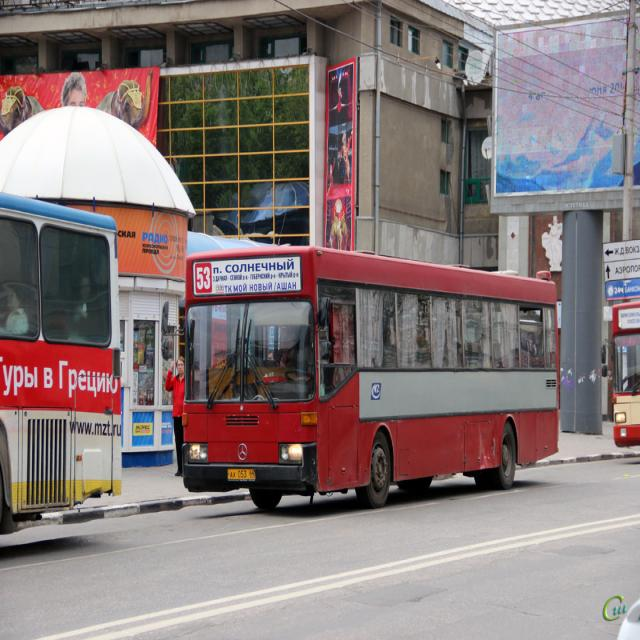number-of-bus: (197, 266, 212, 294)
